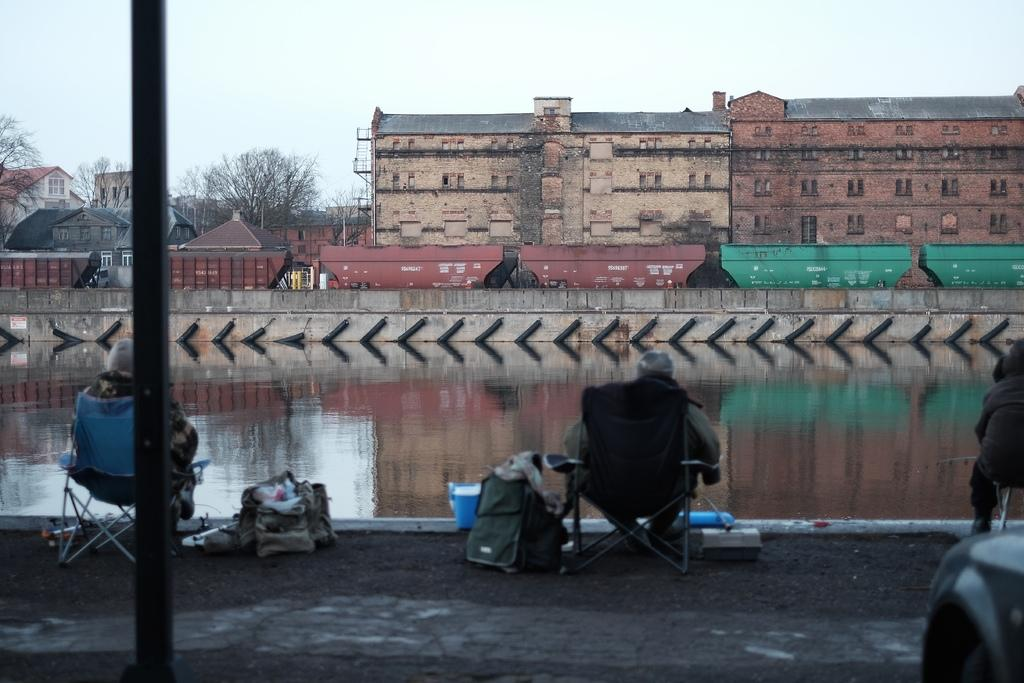Luggage-and-bags: (221, 470, 346, 564), (468, 468, 532, 572)
